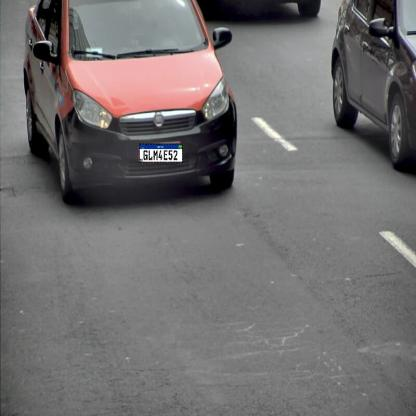PlacaM: (139, 143, 183, 163)
